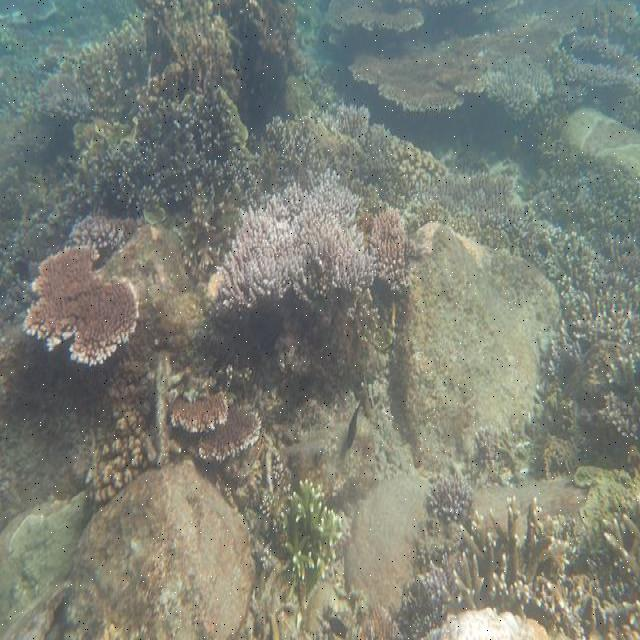reefs: (207, 174, 418, 317), (441, 499, 639, 639), (22, 243, 141, 365), (277, 481, 342, 579), (169, 395, 264, 460)
sea-floor: (397, 224, 561, 473), (65, 456, 257, 639)
